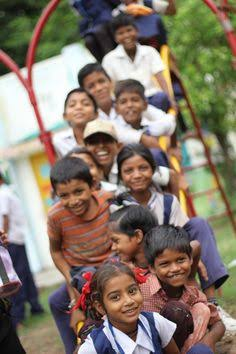student: (141, 228, 195, 282), (89, 269, 144, 320), (48, 161, 94, 217), (105, 209, 155, 257), (115, 144, 154, 193), (56, 89, 99, 130), (109, 78, 144, 126), (83, 124, 120, 167), (77, 62, 112, 104), (112, 19, 142, 56)
